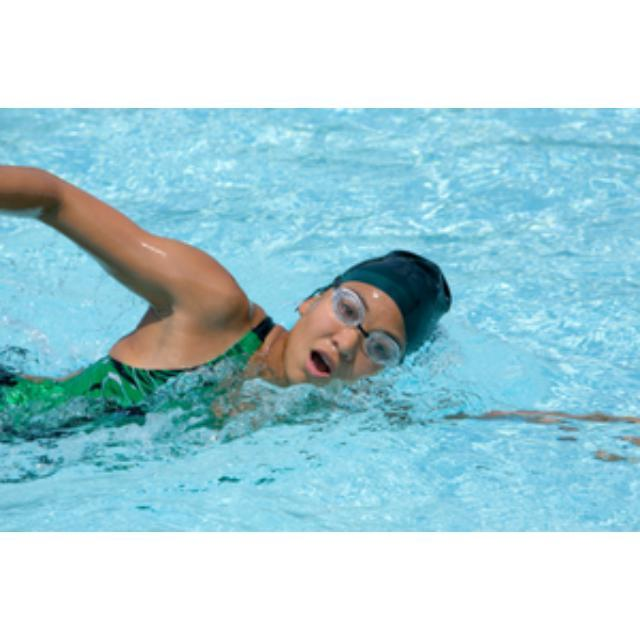human: (1, 162, 504, 448)
